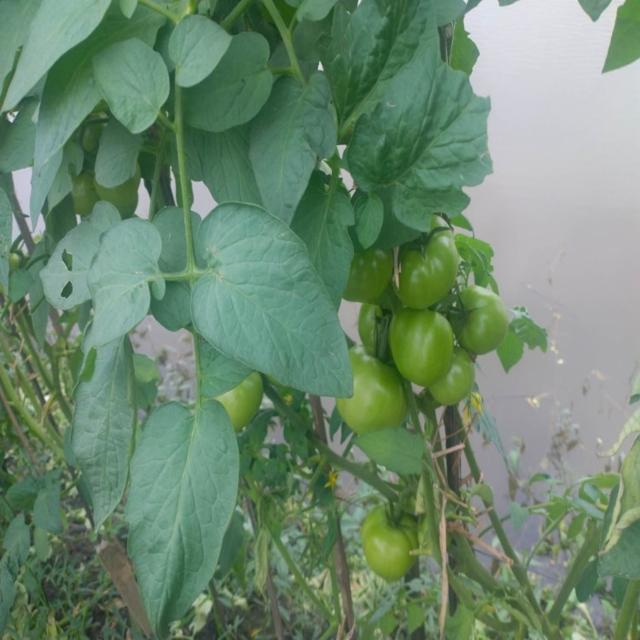tomato: (347, 349, 406, 435), (391, 309, 451, 385), (397, 235, 457, 308), (358, 511, 422, 578), (459, 289, 510, 355), (351, 251, 398, 306), (433, 357, 475, 405), (226, 380, 262, 431), (72, 172, 101, 213), (8, 250, 28, 270)
